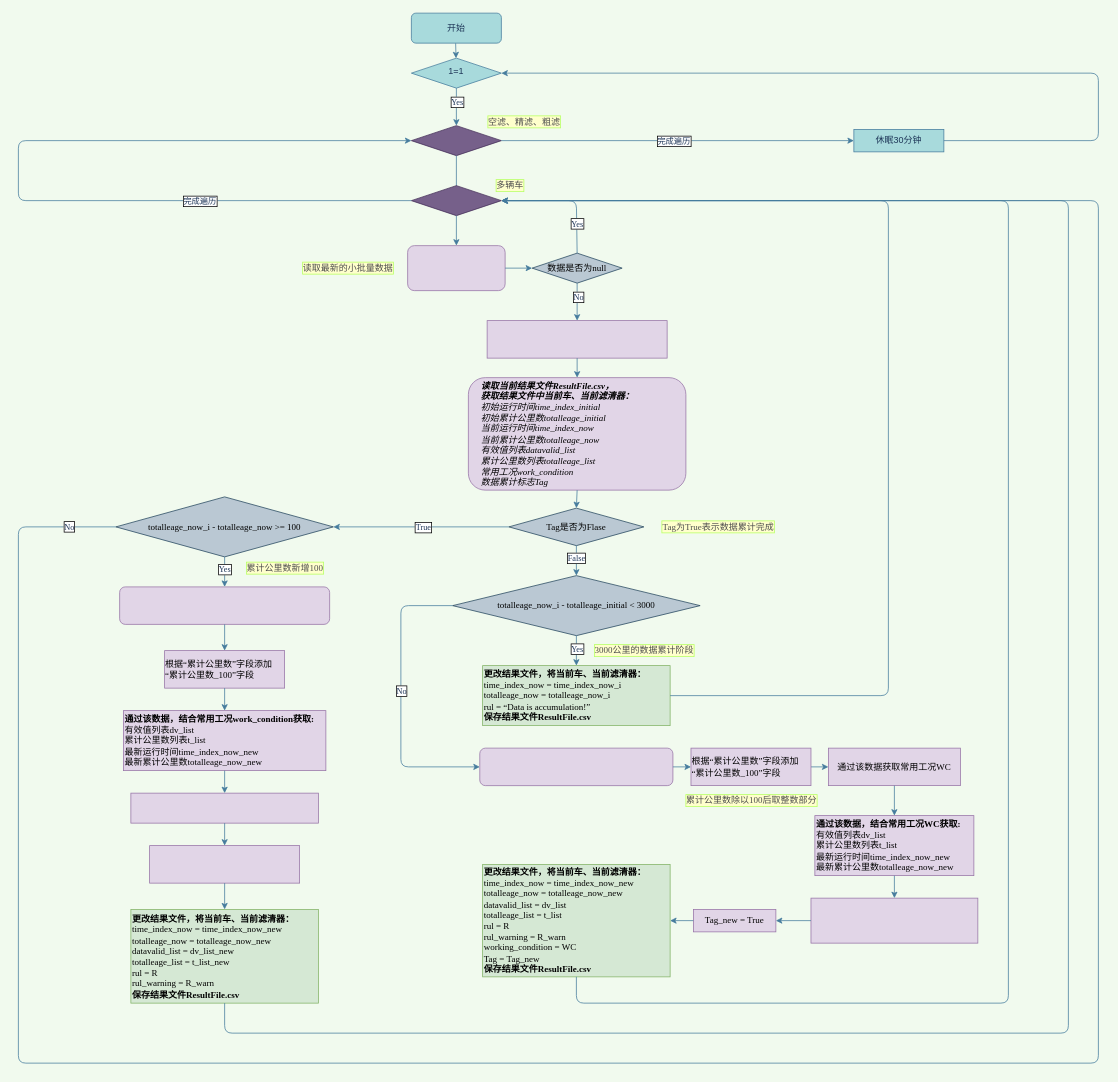
Some shapes in this 1118 by 1082 pixel diagram are drawn without their labels. The centre of each missing label's shape, as x and y in pixels:
剔除数据中的null值，获取最后一条数据中： 最新运行时间time_index_now_i 最新 累计公里数totalleage_now_i: the point at 576,339
将dv_list新增于datavalid_list形成dv_list_new 将t_list新增于totalleage_list形成t_list_new: the point at 224,807
读取influxdb中当前车、当前滤清器： 在当前时刻now至前一天的所有数据: the point at 456,268
读取当前车、当前滤清器： time_index_now_i 至time_index_initial的所有数据，剔除null值: the point at 576,766
读取当前车、当前滤清器： time_index_now_i 至time_index_now的所有数据: the point at 224,605
通过 dv_list_new和 t_list_new计算： 剩余寿命R 寿命预警R_warn: the point at 224,864
通过有效值列表和累计公里数列表计算： 剩余寿命R 寿命预警R_warn: the point at 894,920
遍历三滤: the point at 456,140
遍历车牌: the point at 456,200
